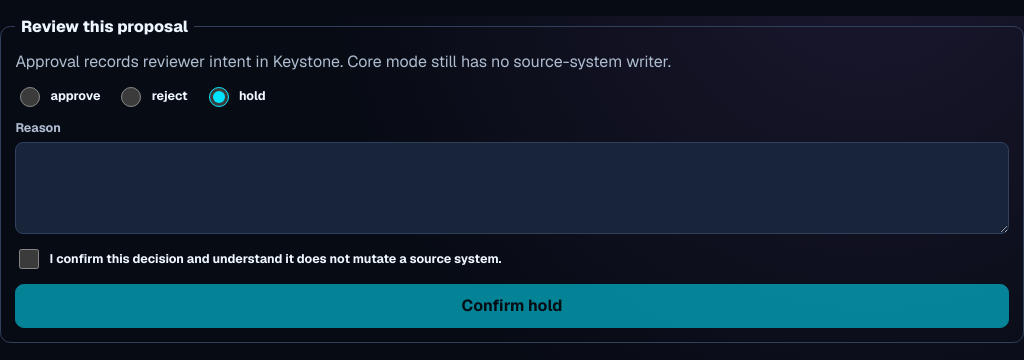
Test: pending proposal decision › enables submit only after both gates pass
In the text box labelled "Reason": [512, 188] box 15,142 -> 1009,234, type "Evidence verified"
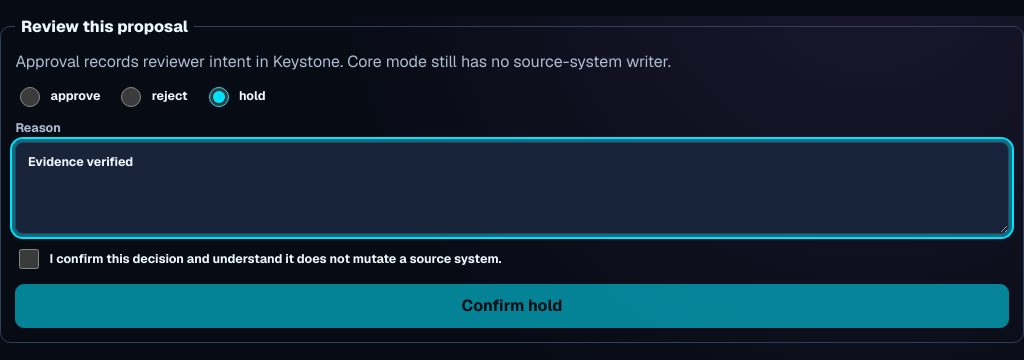
Expected: the button "Confirm hold" is disabled, 15,284 -> 1009,328
Click the checkbox labelled "I confirm": [29, 259] box 19,249 -> 39,269
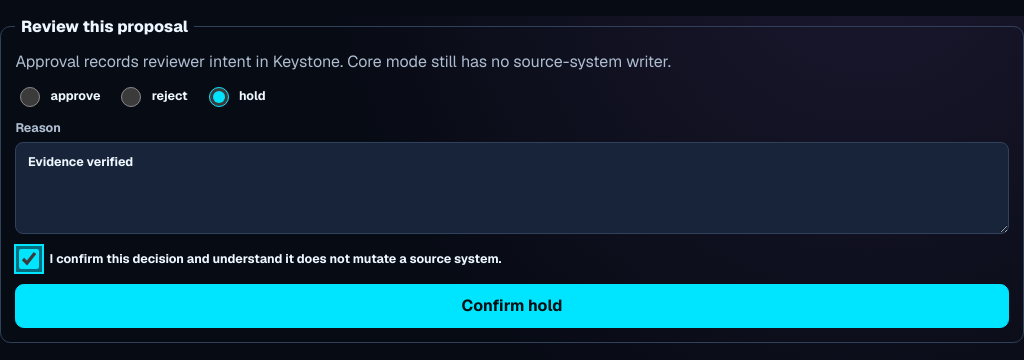
Expected: the button "Confirm hold" is enabled, 15,284 -> 1009,328
